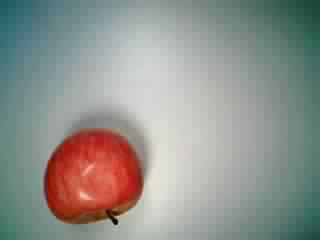apple: (43, 126, 146, 230)
